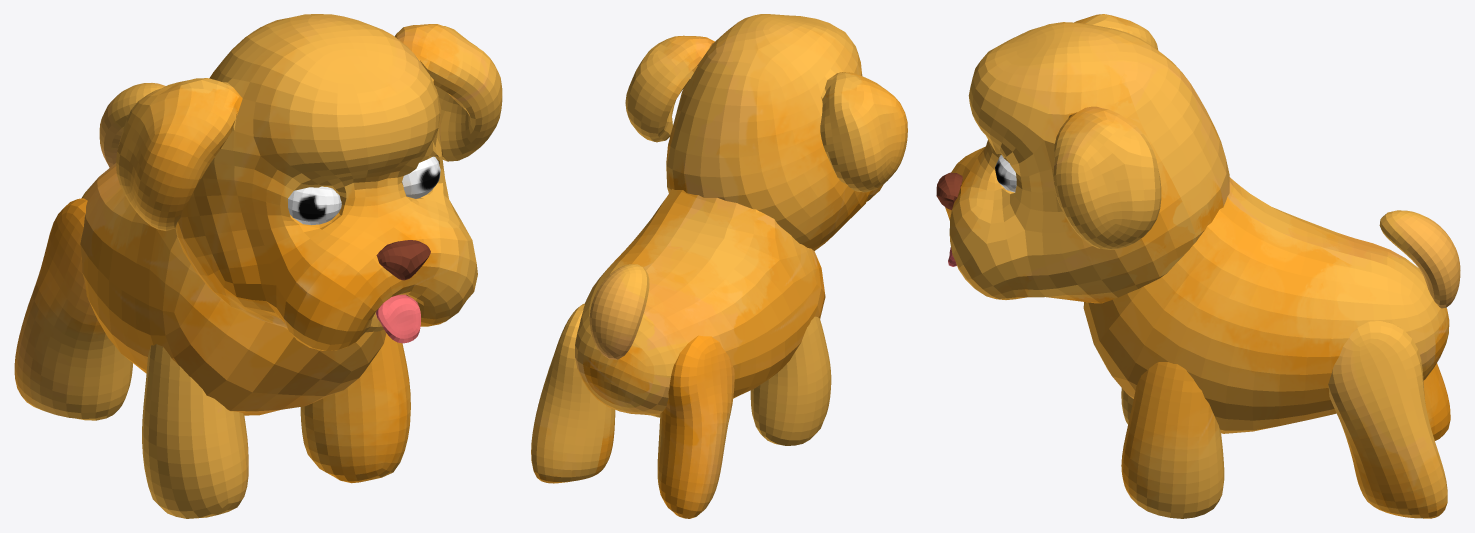
The model's file is dog_model_mesh_static.fbx.
The picture shows the model from 3 angles, left to right: view 1: azimuth 30°, elevation 25°; view 2: azimuth 150°, elevation 25°; view 3: azimuth 270°, elevation 25°; orthographic projection. The views are drawn at different scales.
Parts seen in each view (by area): view 1: dog_topology; view 2: dog_topology; view 3: dog_topology.
Boxes of the visible parts, x1,y1,x2,y2 form: dog_topology: (14,14,502,518); dog_topology: (531,14,907,518); dog_topology: (936,14,1460,518).
Bounding box in the file's own units: 4668 × 6338 × 6855.
Materials: 1 (1 with a texture image).
